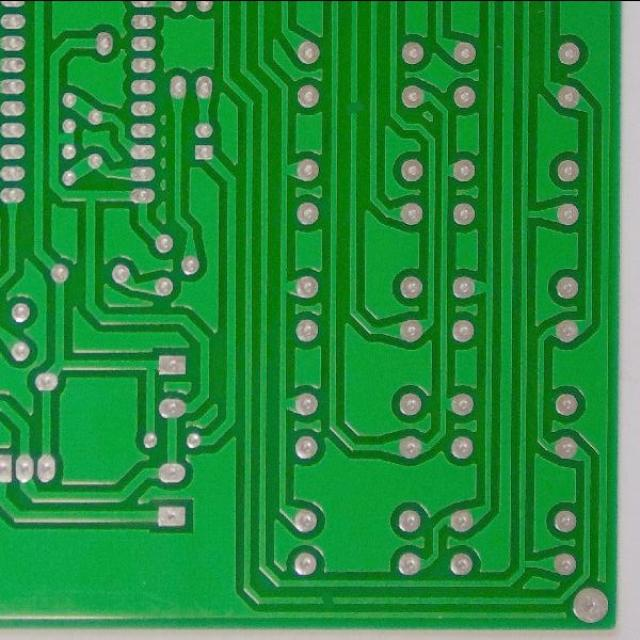open_circuit: (317, 589, 338, 610), (344, 97, 362, 118)
